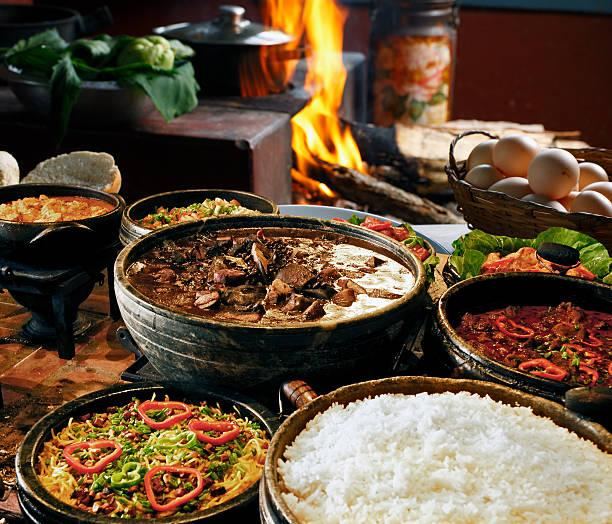Braised Crucian Carp: (111, 212, 424, 391), (258, 375, 610, 521), (11, 381, 273, 520), (425, 269, 609, 413)
